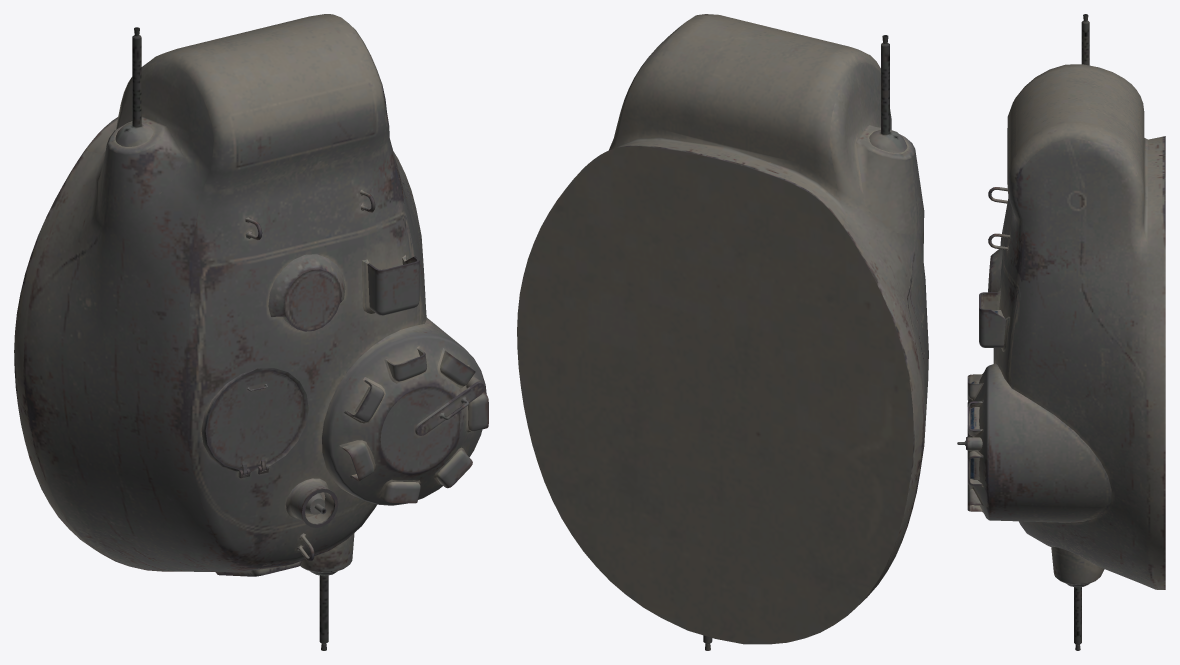
The model's file is Turret_01.glb.
The picture shows the model from 3 angles, left to right: view 1: azimuth 30°, elevation 25°; view 2: azimuth 150°, elevation 25°; view 3: azimuth 270°, elevation 25°; orthographic projection. The views are drawn at different scales.
Visible parts, largest first — view 1: set_0_group_0; view 2: set_0_group_0; view 3: set_0_group_0.
Part boxes in pixels (box(x1,y1,x2,y2)): set_0_group_0: box(14, 14, 488, 650); set_0_group_0: box(517, 14, 928, 650); set_0_group_0: box(957, 14, 1165, 650).
Bounding box in the file's own units: 2.1 × 3.34 × 1.13.
Materials: 1 (1 with a texture image).
